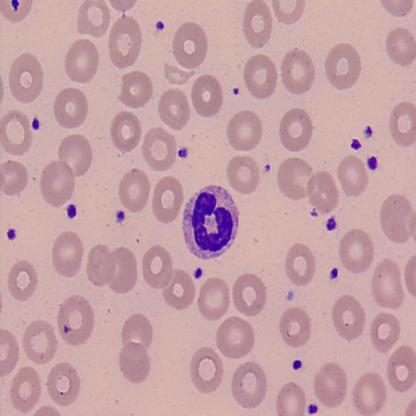Band Neutrophil: (180, 183, 241, 264)
